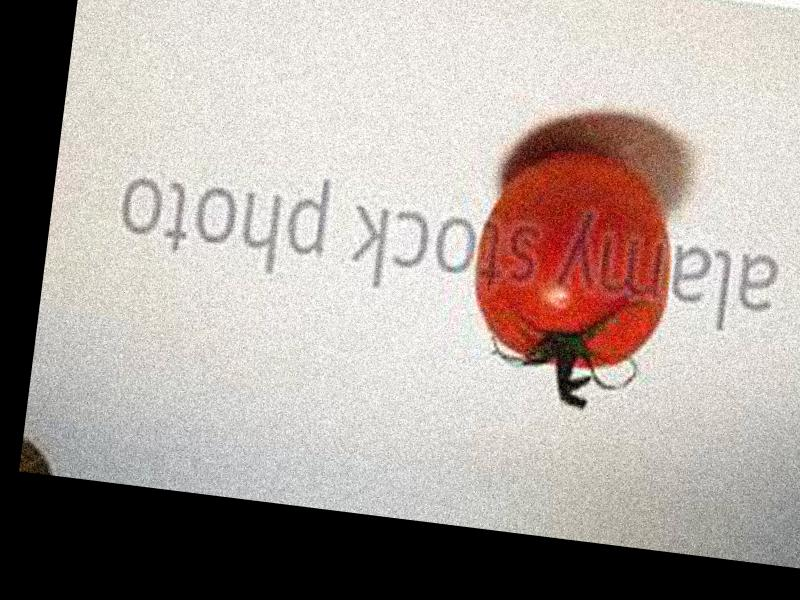Tomato: (463, 142, 683, 380)
